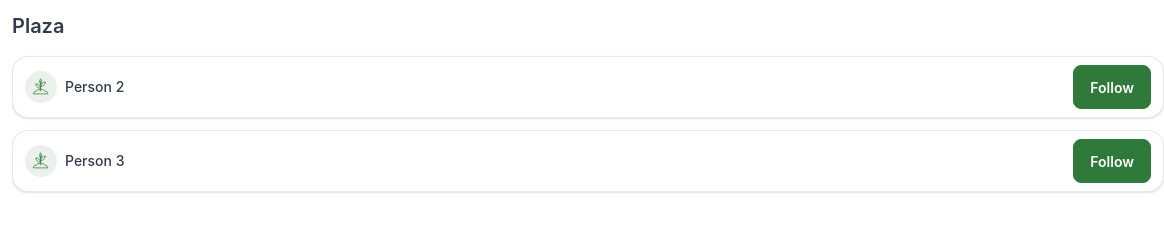
it: PlazaPage › shows an error when following fails
This screenshot has width=1164, height=246.
Click the button with aria-label "Follow Person 2": (1112, 87) [1073,65,1151,109]
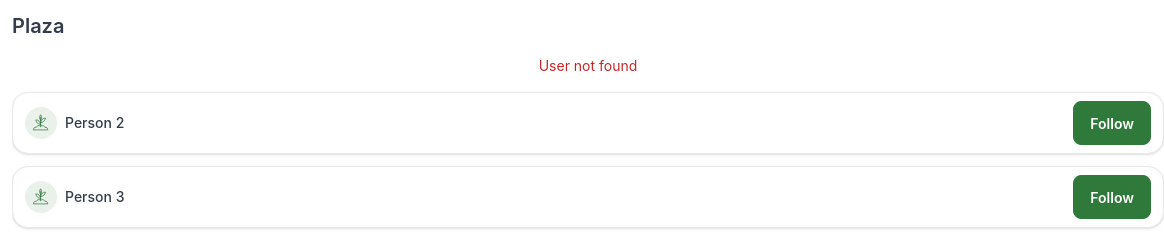
Expected: the button with aria-label "Follow Person 2" is shown, [1073,101,1151,145]
Expected: the message reads "User not found", [539,57,637,74]
